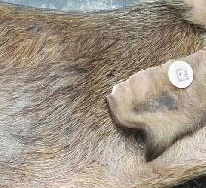text: (159, 53, 204, 94)
